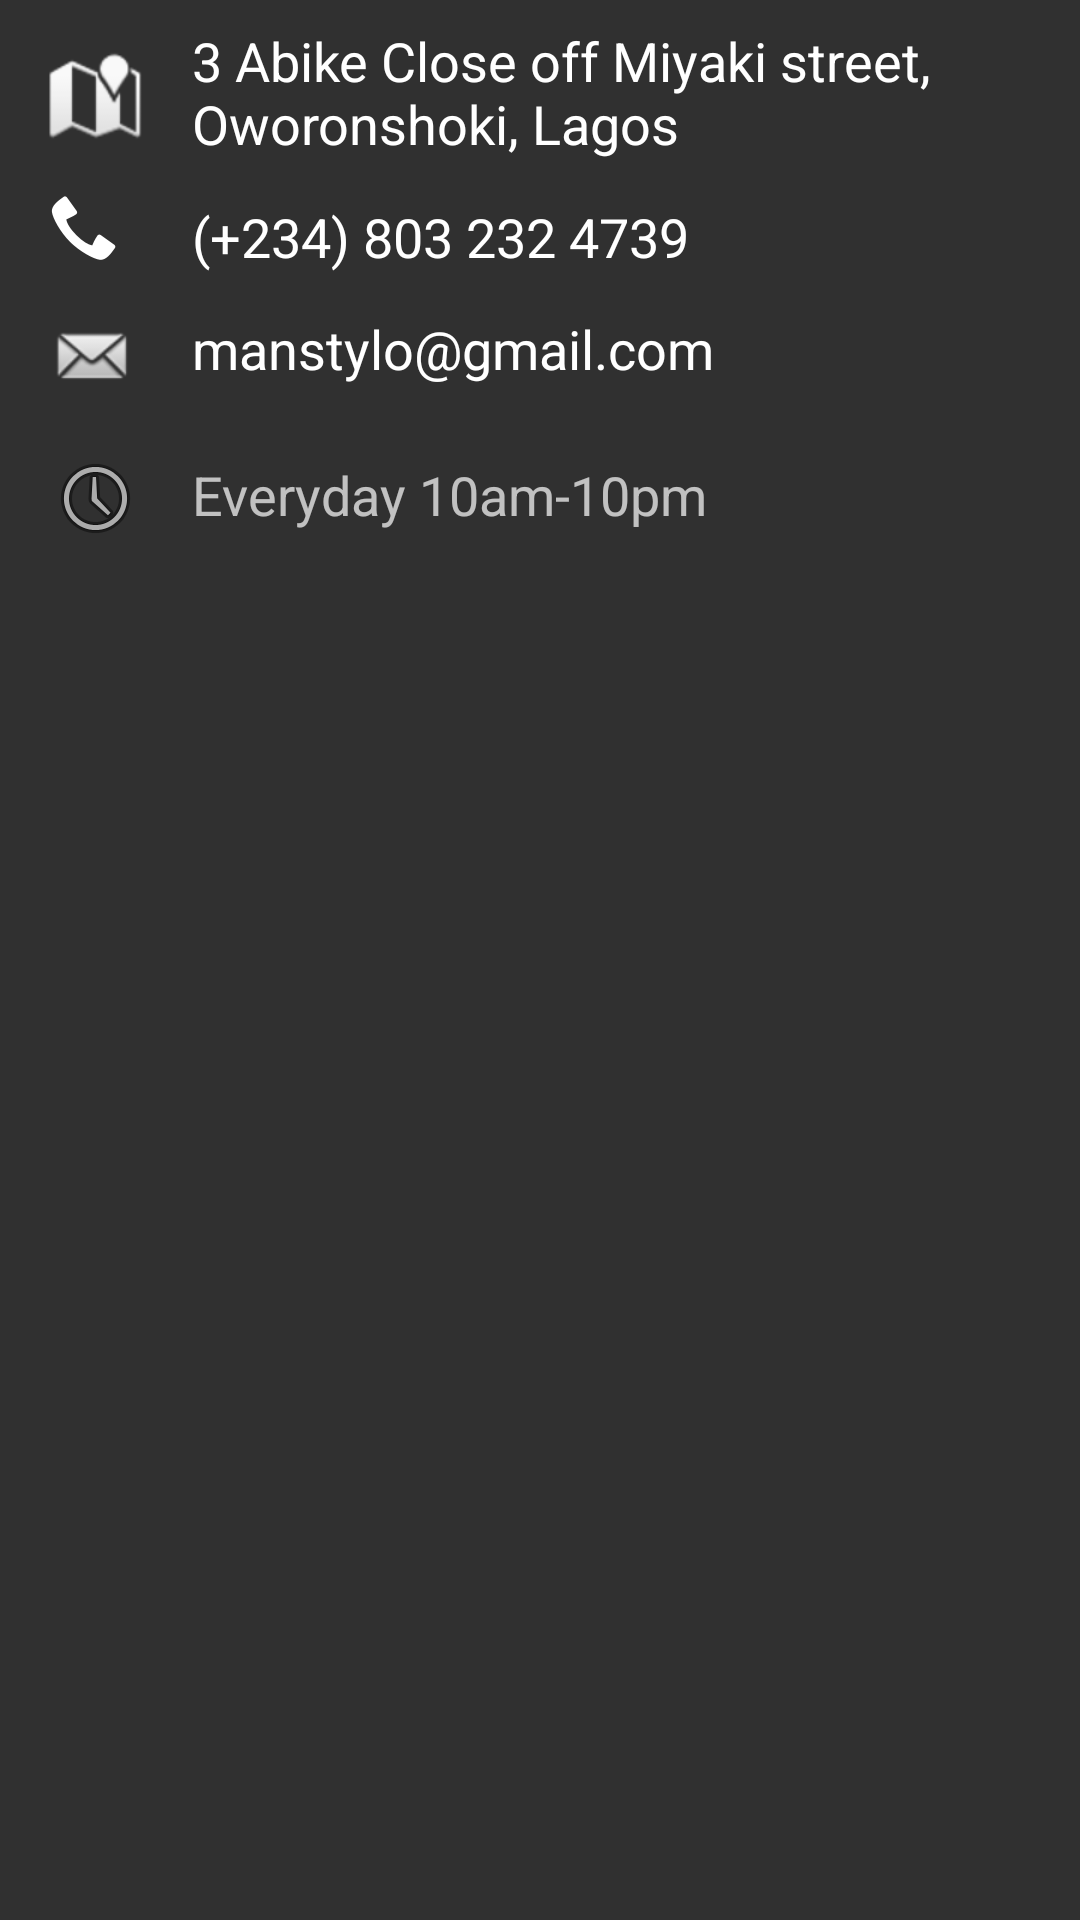

Screen size 1080*1920. Icon name, then its center in pixels as (x=x, y=y):
hours: (x=95, y=498)
maps: (x=95, y=96)
phone call: (x=84, y=228)
